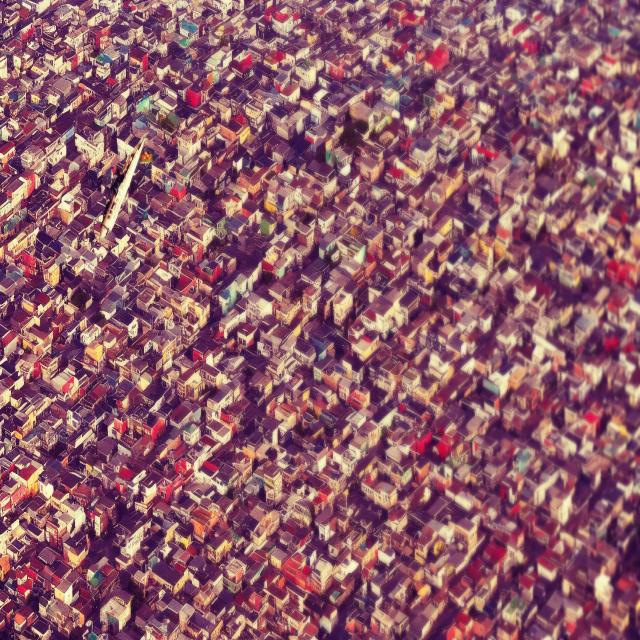airplane: (96, 132, 148, 240)
